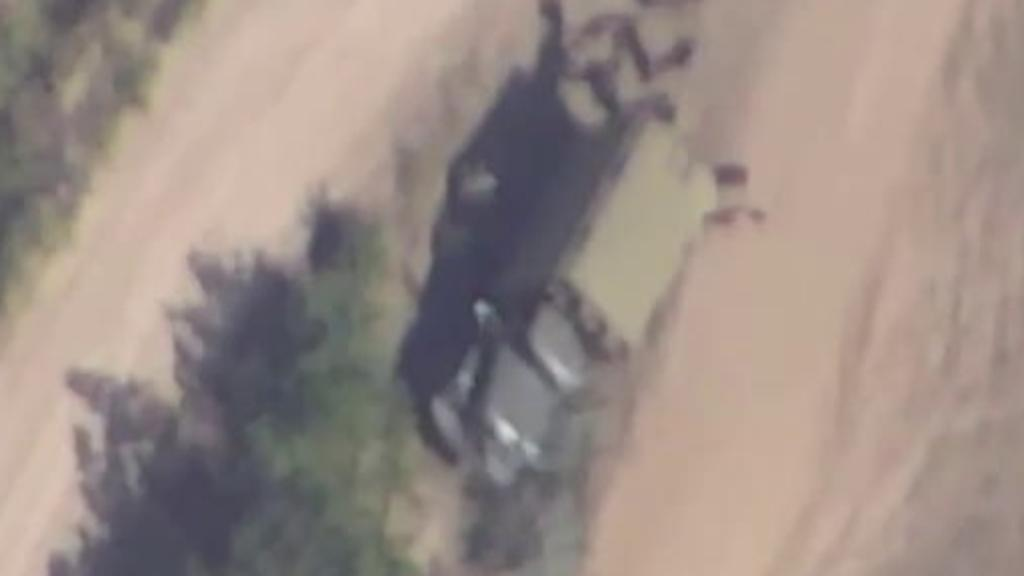TRUCK: (430, 109, 720, 490)
